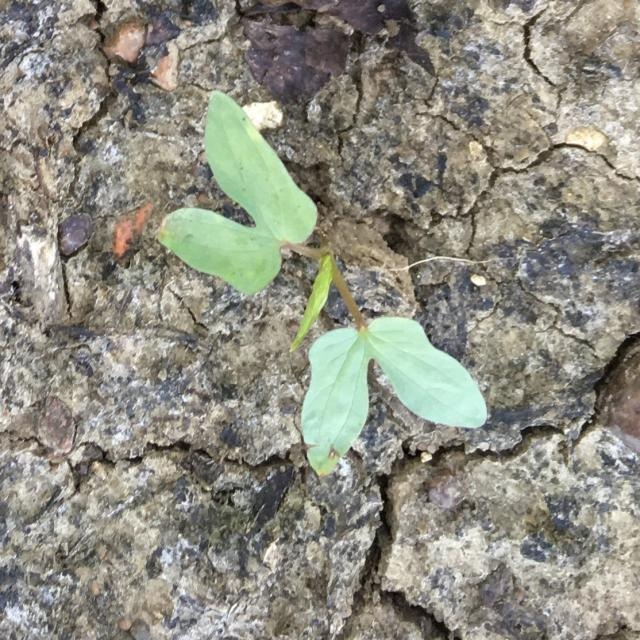MorningGlory: (157, 90, 488, 477)
